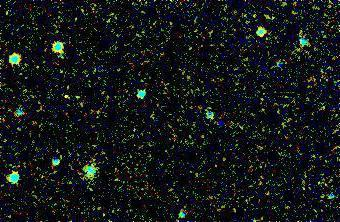star: (51, 81, 81, 111)
